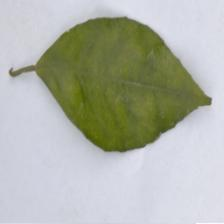healthy: (36, 15, 212, 155)
